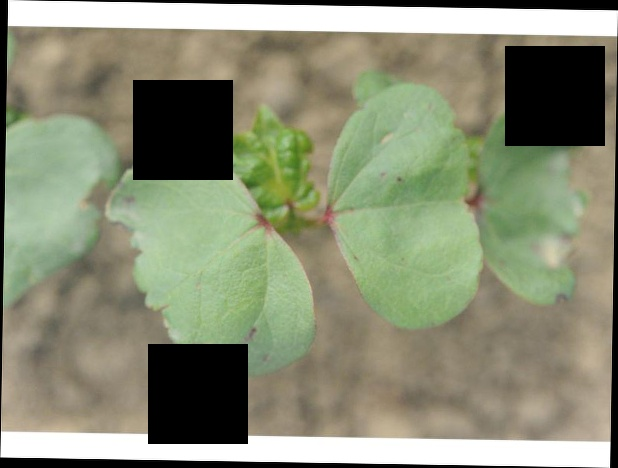cotton: (3, 79, 585, 375)
